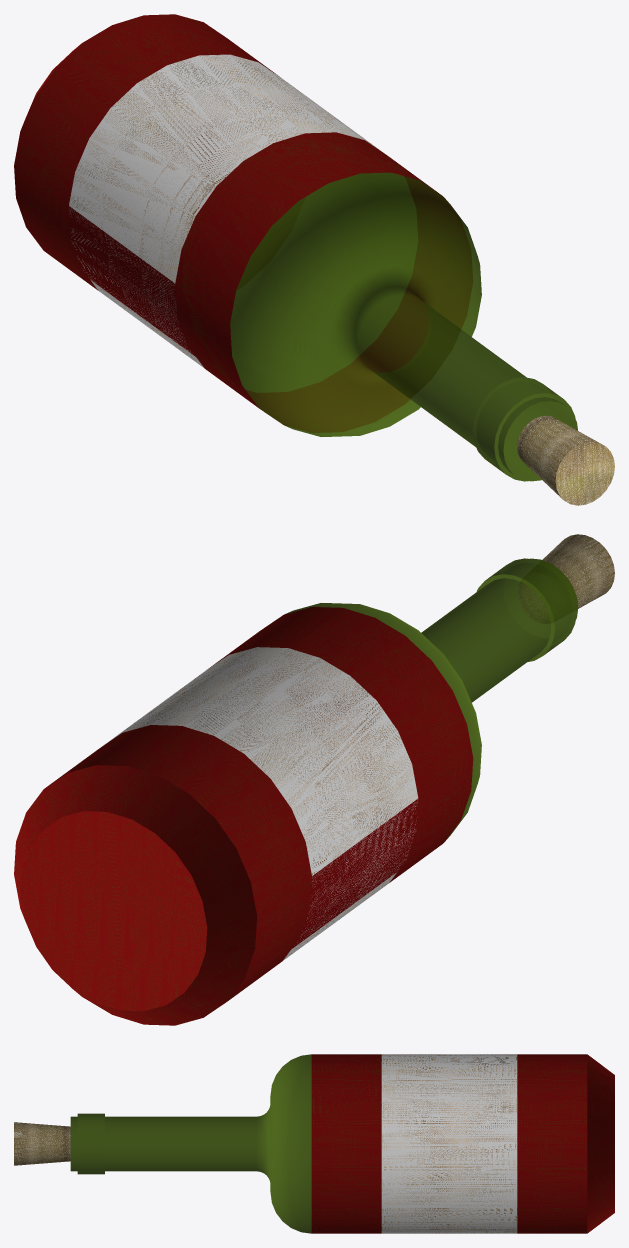
The model's file is model_scale.obj.
The picture shows the model from 3 angles, top to bottom: view 1: azimuth 30°, elevation 25°; view 2: azimuth 150°, elevation 25°; view 3: azimuth 270°, elevation 25°; orthographic projection. The views are drawn at different scales.
Visible parts, largest first — view 1: mesh1_mesh1-geometry, mesh4_mesh4-geometry, mesh2_mesh2-geometry, mesh3_mesh3-geometry; view 2: mesh2_mesh2-geometry, mesh4_mesh4-geometry, mesh1_mesh1-geometry, mesh3_mesh3-geometry; view 3: mesh1_mesh1-geometry, mesh4_mesh4-geometry, mesh2_mesh2-geometry, mesh3_mesh3-geometry.
Boxes of the visible parts, x1=… form: mesh1_mesh1-geometry: x1=175, y1=132, x2=577, y2=481; mesh4_mesh4-geometry: x1=69, y1=54, x2=384, y2=367; mesh2_mesh2-geometry: x1=14, y1=14, x2=279, y2=290; mesh3_mesh3-geometry: x1=517, y1=415, x2=614, y2=505; mesh2_mesh2-geometry: x1=14, y1=725, x2=311, y2=1025; mesh4_mesh4-geometry: x1=102, y1=647, x2=418, y2=960; mesh1_mesh1-geometry: x1=208, y1=558, x2=578, y2=882; mesh3_mesh3-geometry: x1=517, y1=534, x2=614, y2=623; mesh1_mesh1-geometry: x1=70, y1=1054, x2=381, y2=1233; mesh4_mesh4-geometry: x1=381, y1=1054, x2=517, y2=1233; mesh2_mesh2-geometry: x1=517, y1=1054, x2=614, y2=1233; mesh3_mesh3-geometry: x1=14, y1=1122, x2=70, y2=1165.
Size of the model in its own units: 0.0723 by 0.0723 by 0.2427.
